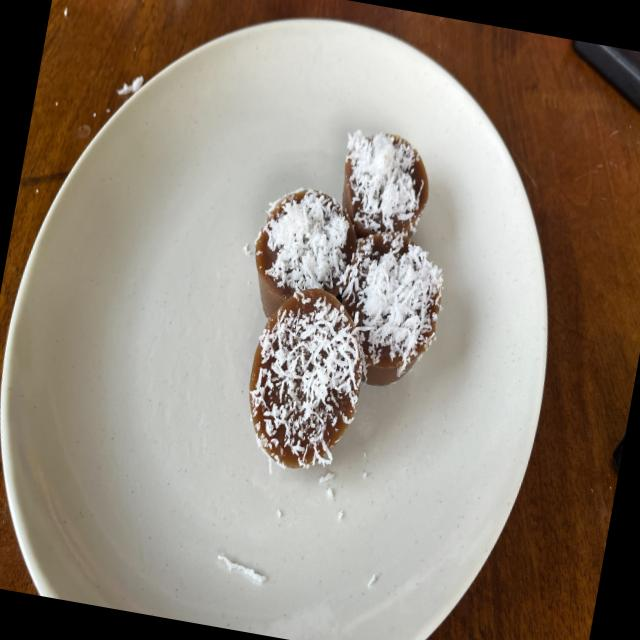Kuih lompang: (249, 288, 362, 468), (341, 233, 442, 385), (255, 188, 356, 316), (342, 130, 428, 237)
